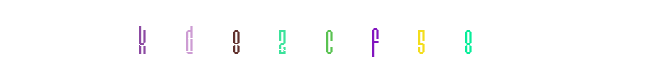5: (333, 0, 413, 80)
8: (215, 0, 295, 80), (381, 0, 461, 80)
C: (288, 0, 368, 80)
D: (195, 0, 275, 80)
F: (328, 0, 408, 80)
K: (172, 0, 252, 80)
Z: (285, 0, 365, 80)
